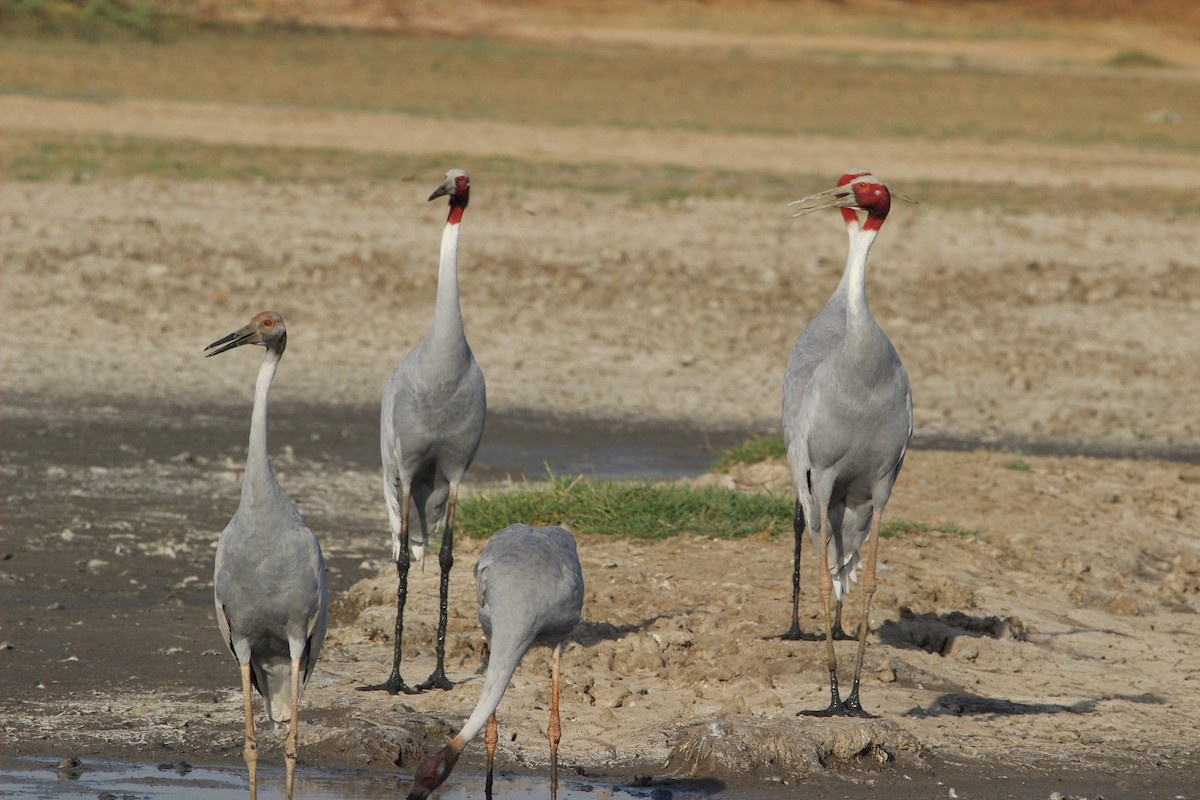crane: (187, 295, 351, 799), (788, 165, 903, 716), (409, 518, 613, 800), (377, 156, 484, 681)
